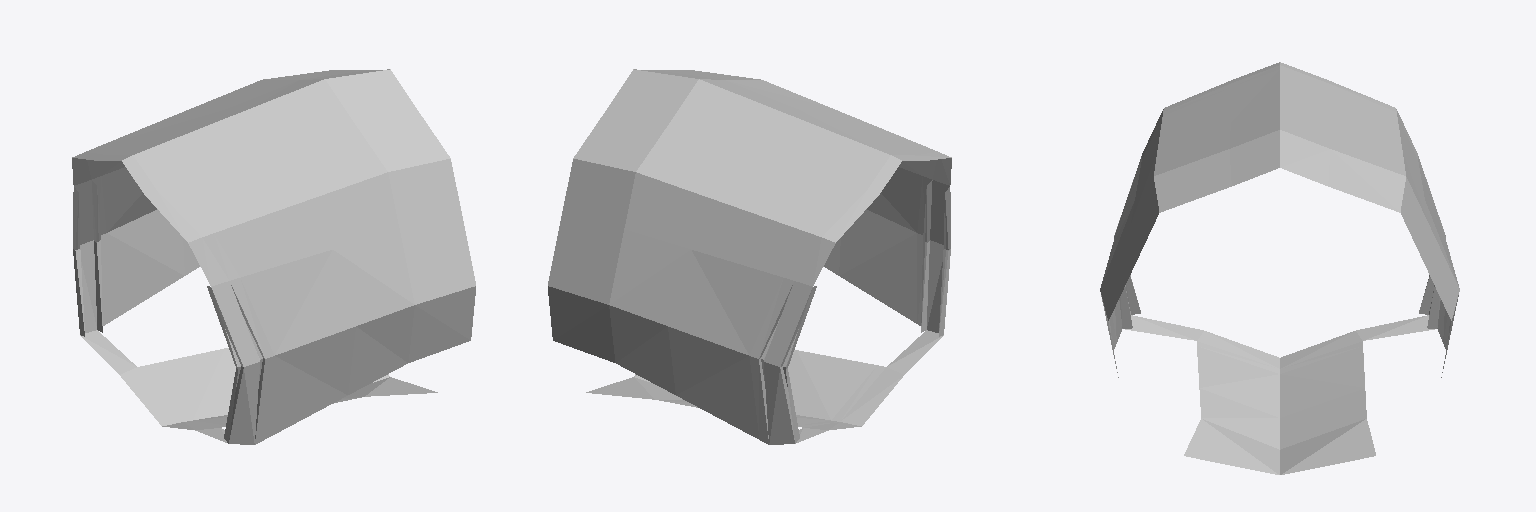
File: Body_Front.obj
3 views of the same model, side by side, from view 1: azimuth 30°, elevation 25°; view 2: azimuth 150°, elevation 25°; view 3: azimuth 270°, elevation 25° (orthographic).
Visible parts, largest first — view 1: polySurface1 pCylinder5; view 2: polySurface1 pCylinder5; view 3: polySurface1 pCylinder5.
Part boxes in pixels (x1,y1,x2,y2): polySurface1 pCylinder5: (72,69,475,444); polySurface1 pCylinder5: (548,69,951,444); polySurface1 pCylinder5: (1100,62,1459,474).
Size of the model in its own units: 4.03 by 4.58 by 4.66.